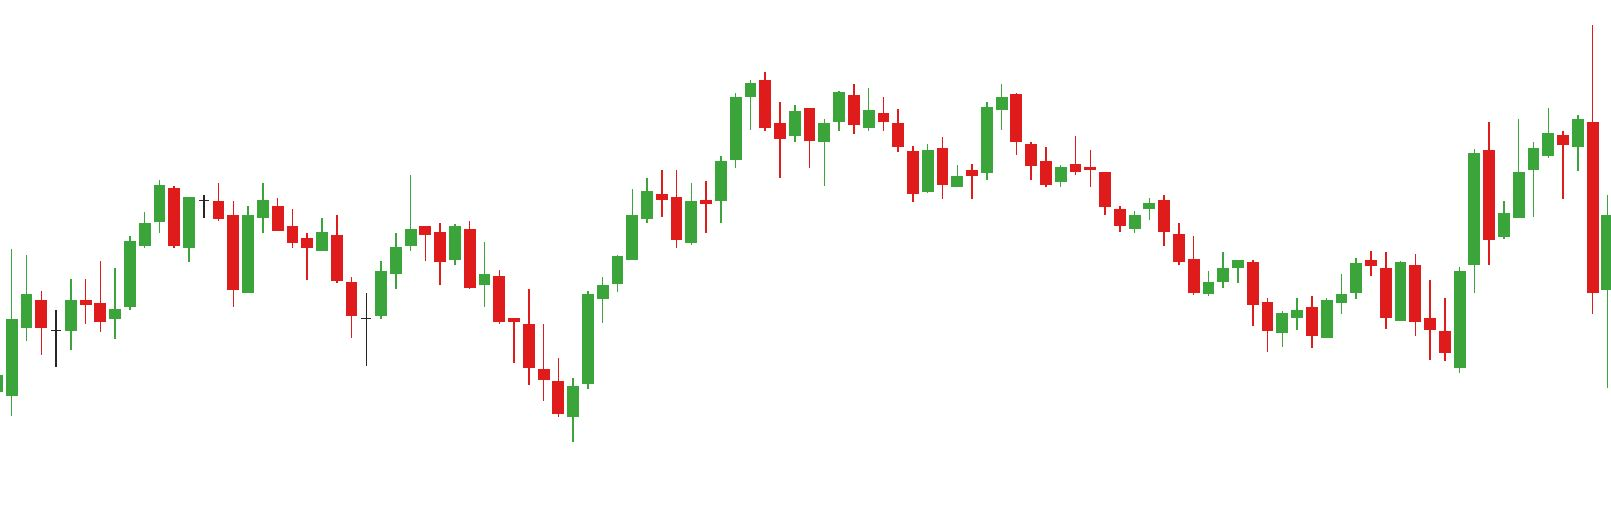buy: (1304, 279, 1470, 379)
sell: (313, 172, 420, 298), (889, 85, 1026, 173)
